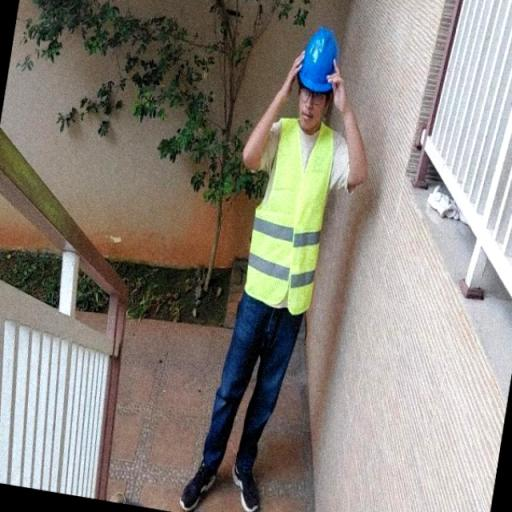Person: (188, 12, 358, 510)
helmet: (292, 20, 344, 102)
vest: (246, 114, 340, 336)
